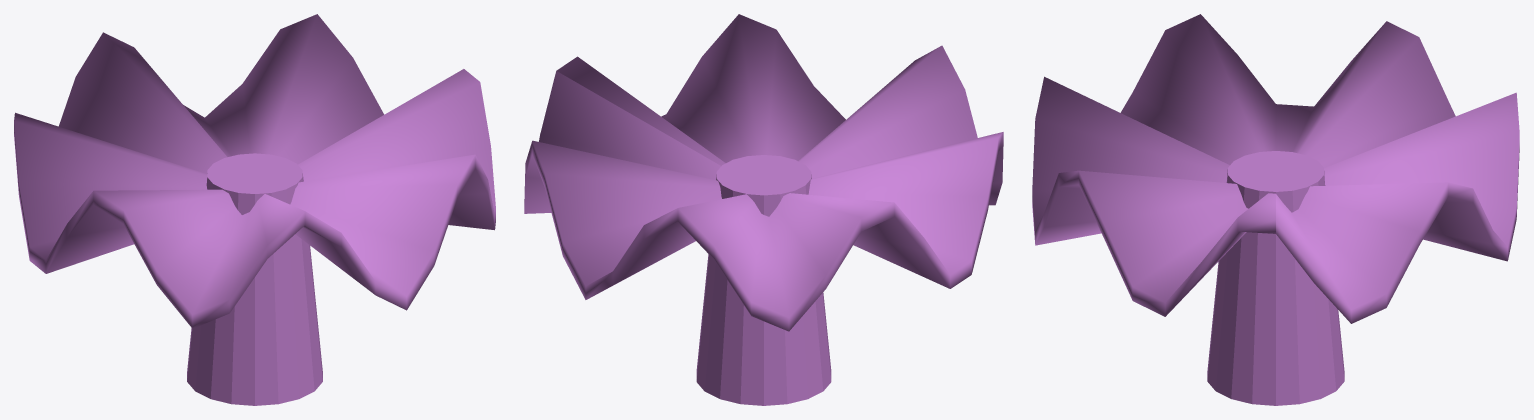
Rendered from underwater-reef-worlds-leather-coral-228a4b47__7011.glb.
3 renders of one model, left to right at view 1: azimuth 30°, elevation 25°; view 2: azimuth 150°, elevation 25°; view 3: azimuth 270°, elevation 25°, orthographic.
Parts seen in each view (by area): view 1: leather-coral; view 2: leather-coral; view 3: leather-coral.
Part boxes in pixels (x1,y1,x2,y2): leather-coral: (14, 14, 495, 405); leather-coral: (524, 14, 1003, 405); leather-coral: (1032, 14, 1519, 405).
Size of the model in its own units: 1.4 by 0.8497 by 1.4.
